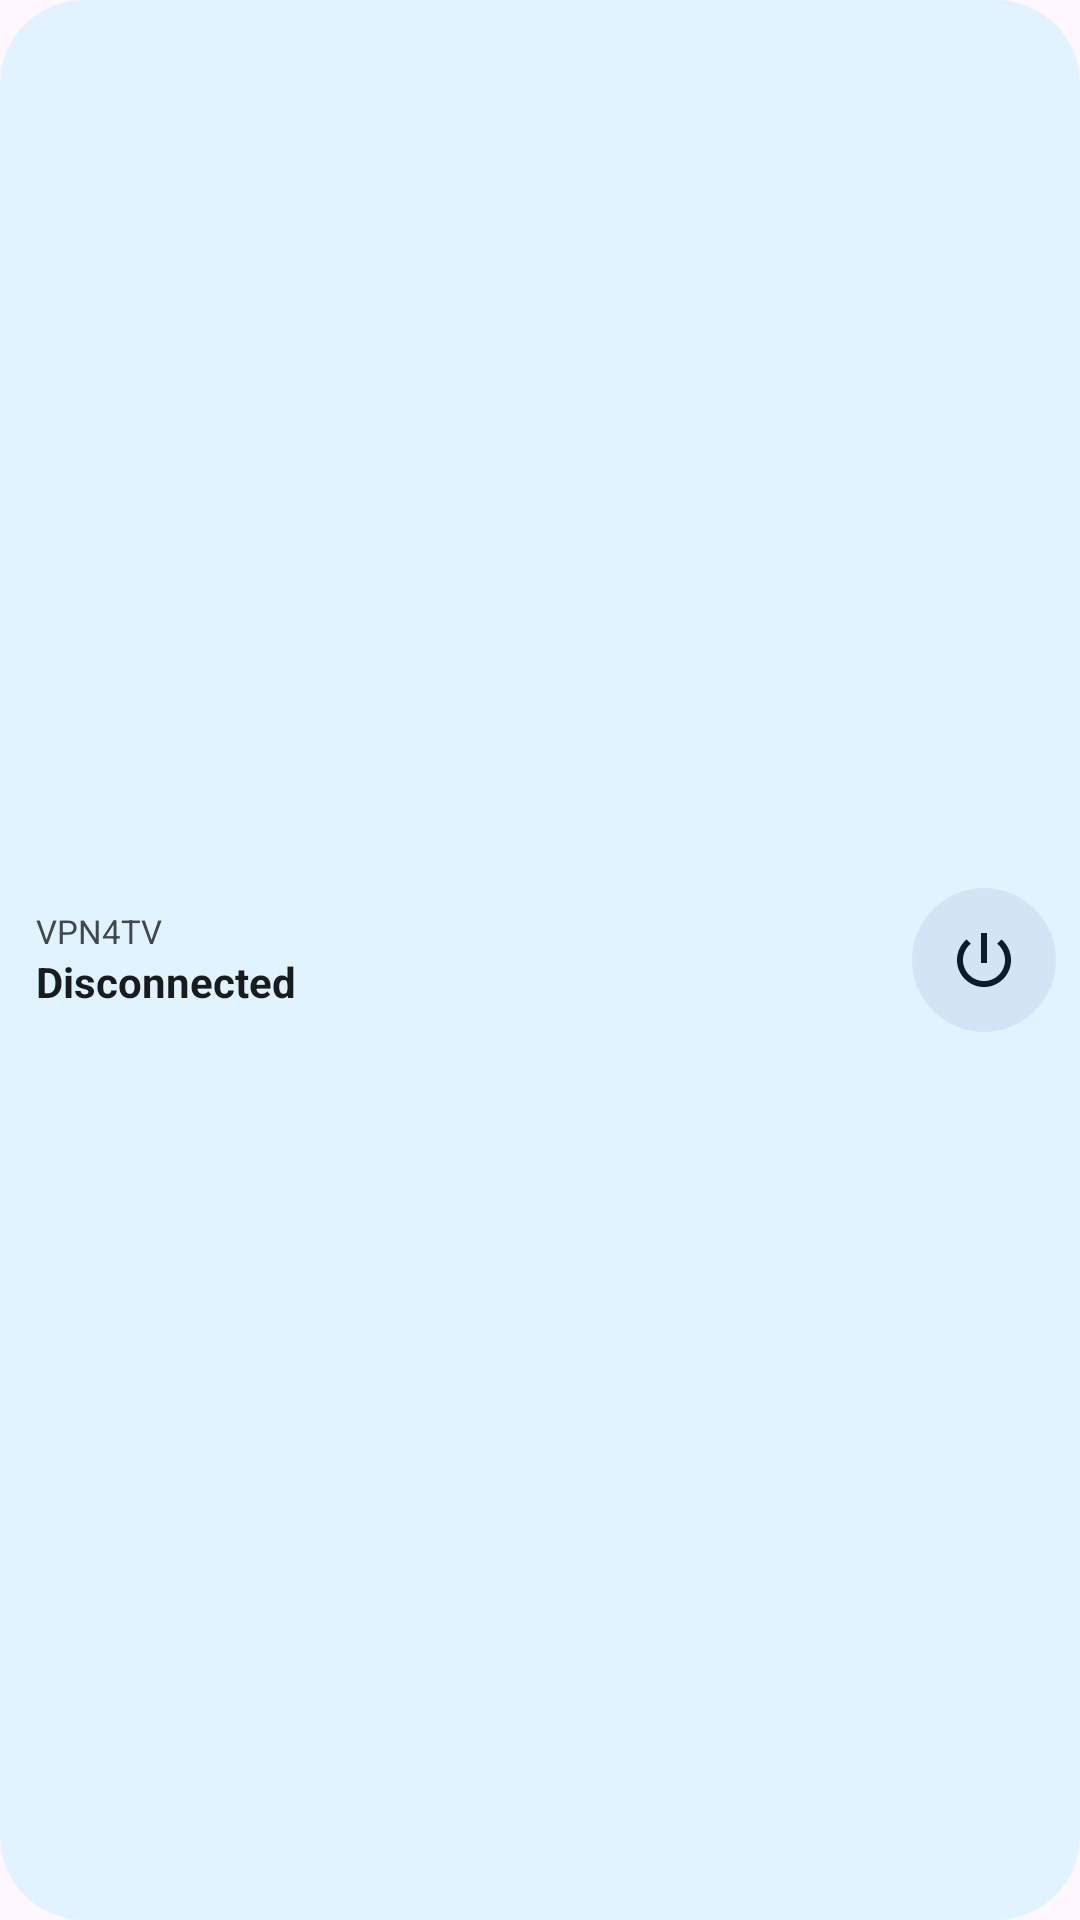

Icon click points for this 1080*1920 phone screenshot, format point (x, y):
vpn widget power: point (984, 960)
